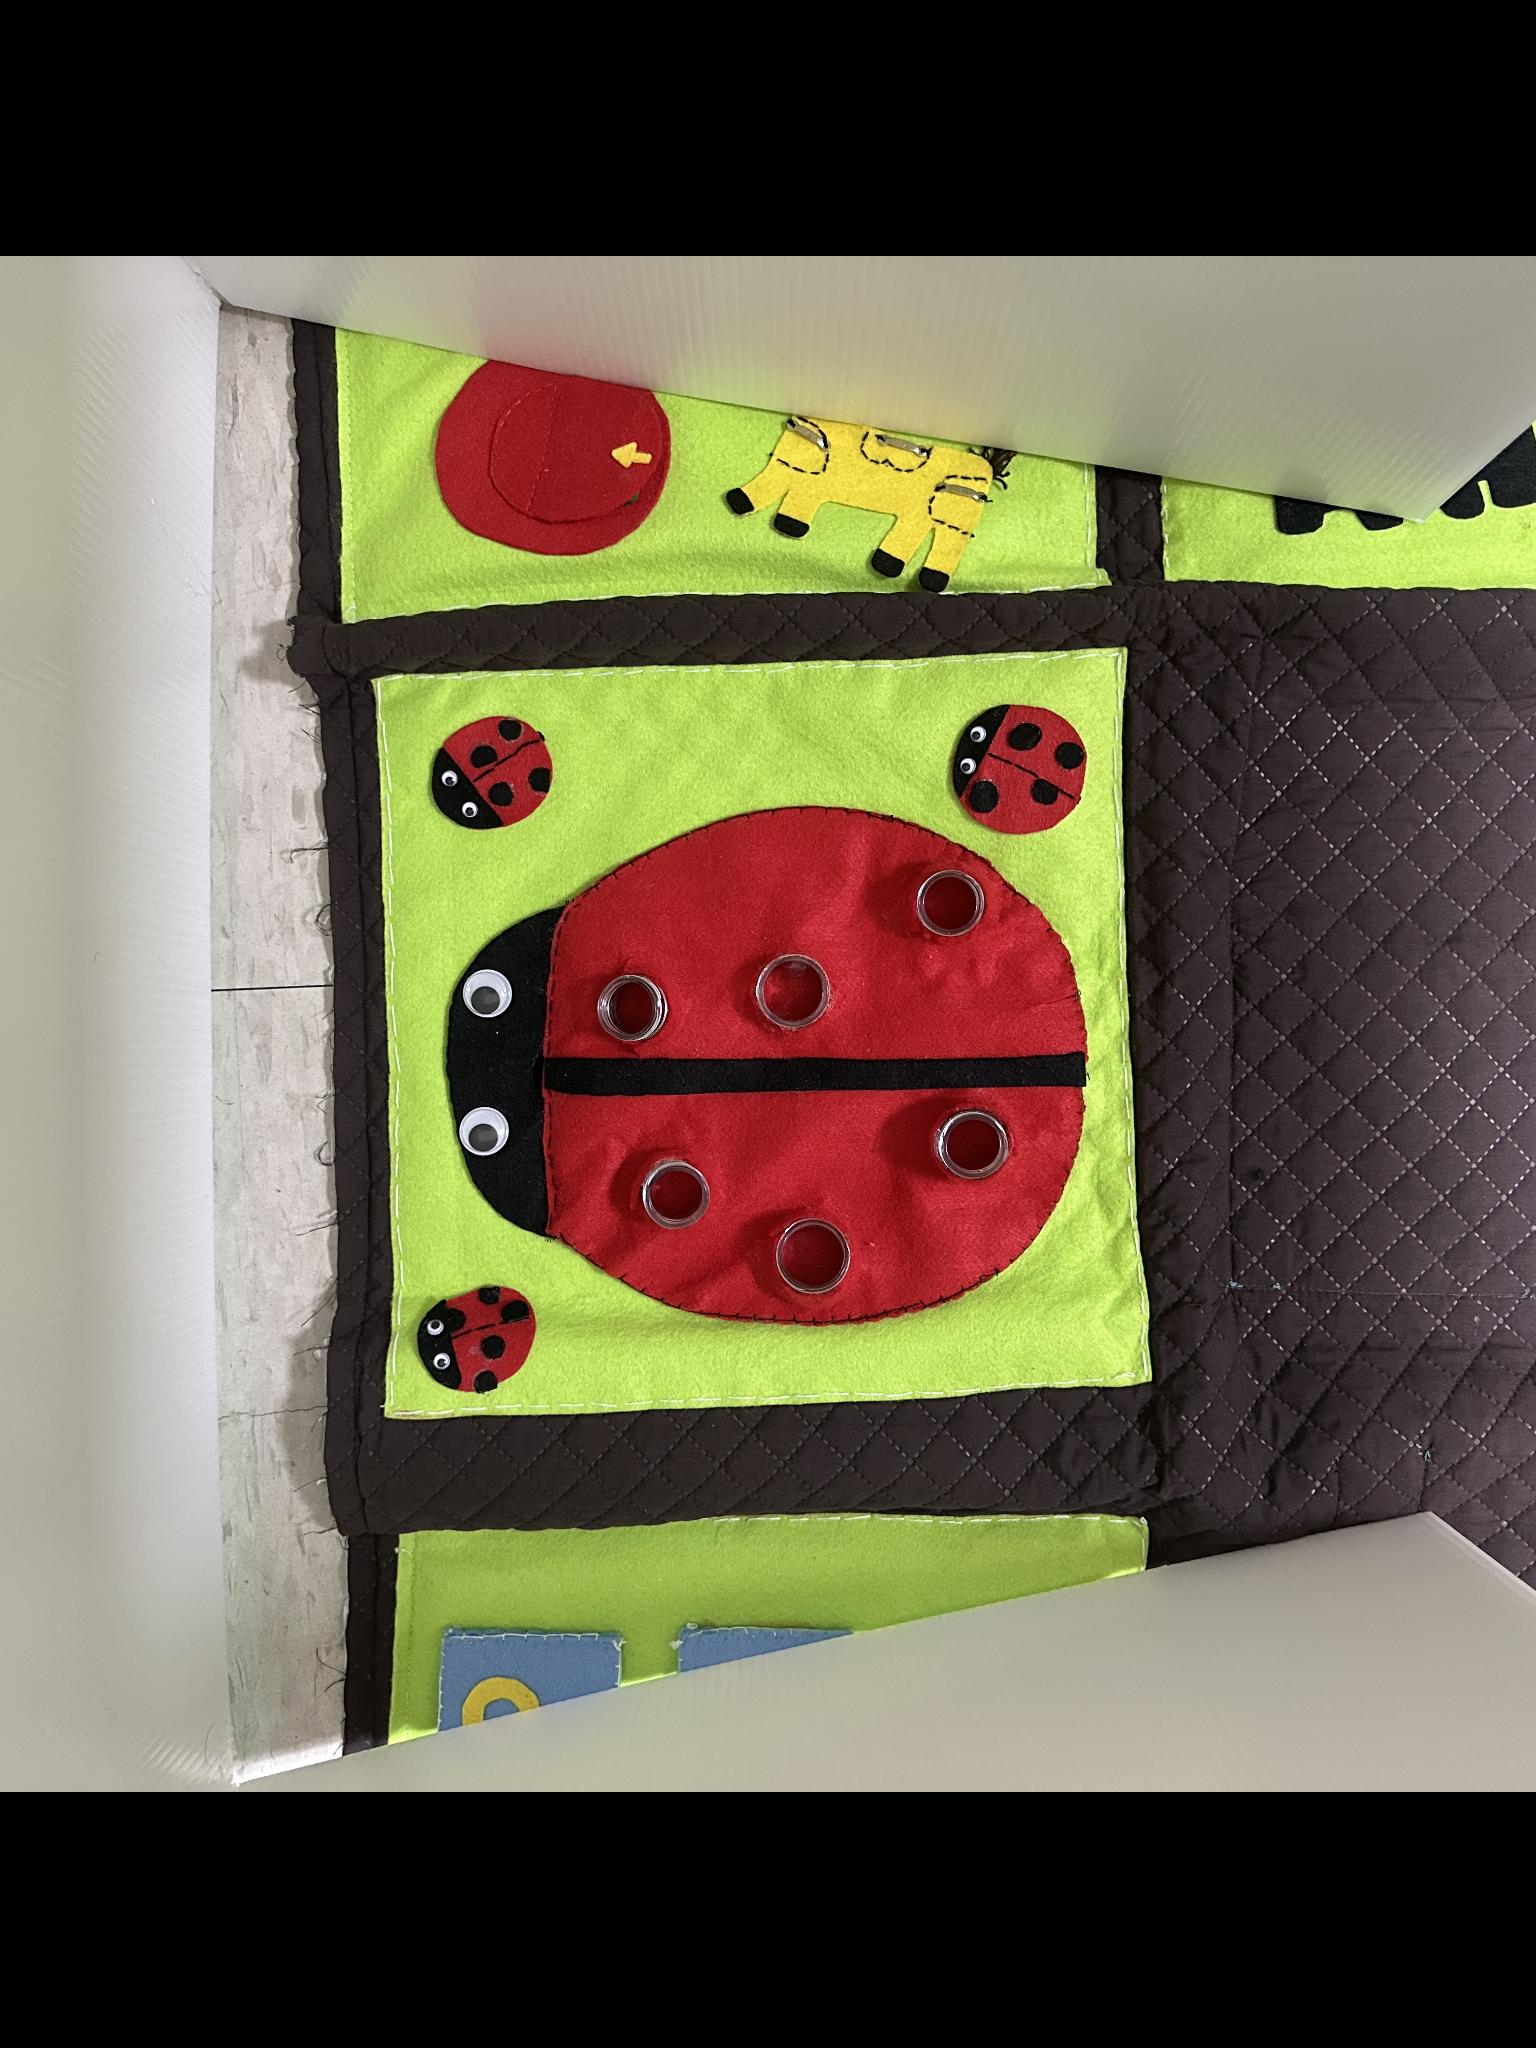hole: (758, 947, 836, 1035), (926, 1121, 1018, 1185), (589, 977, 673, 1047), (632, 1159, 708, 1230), (776, 1227, 847, 1295), (921, 866, 983, 939)
ladybug_case: (442, 805, 1084, 1332)
